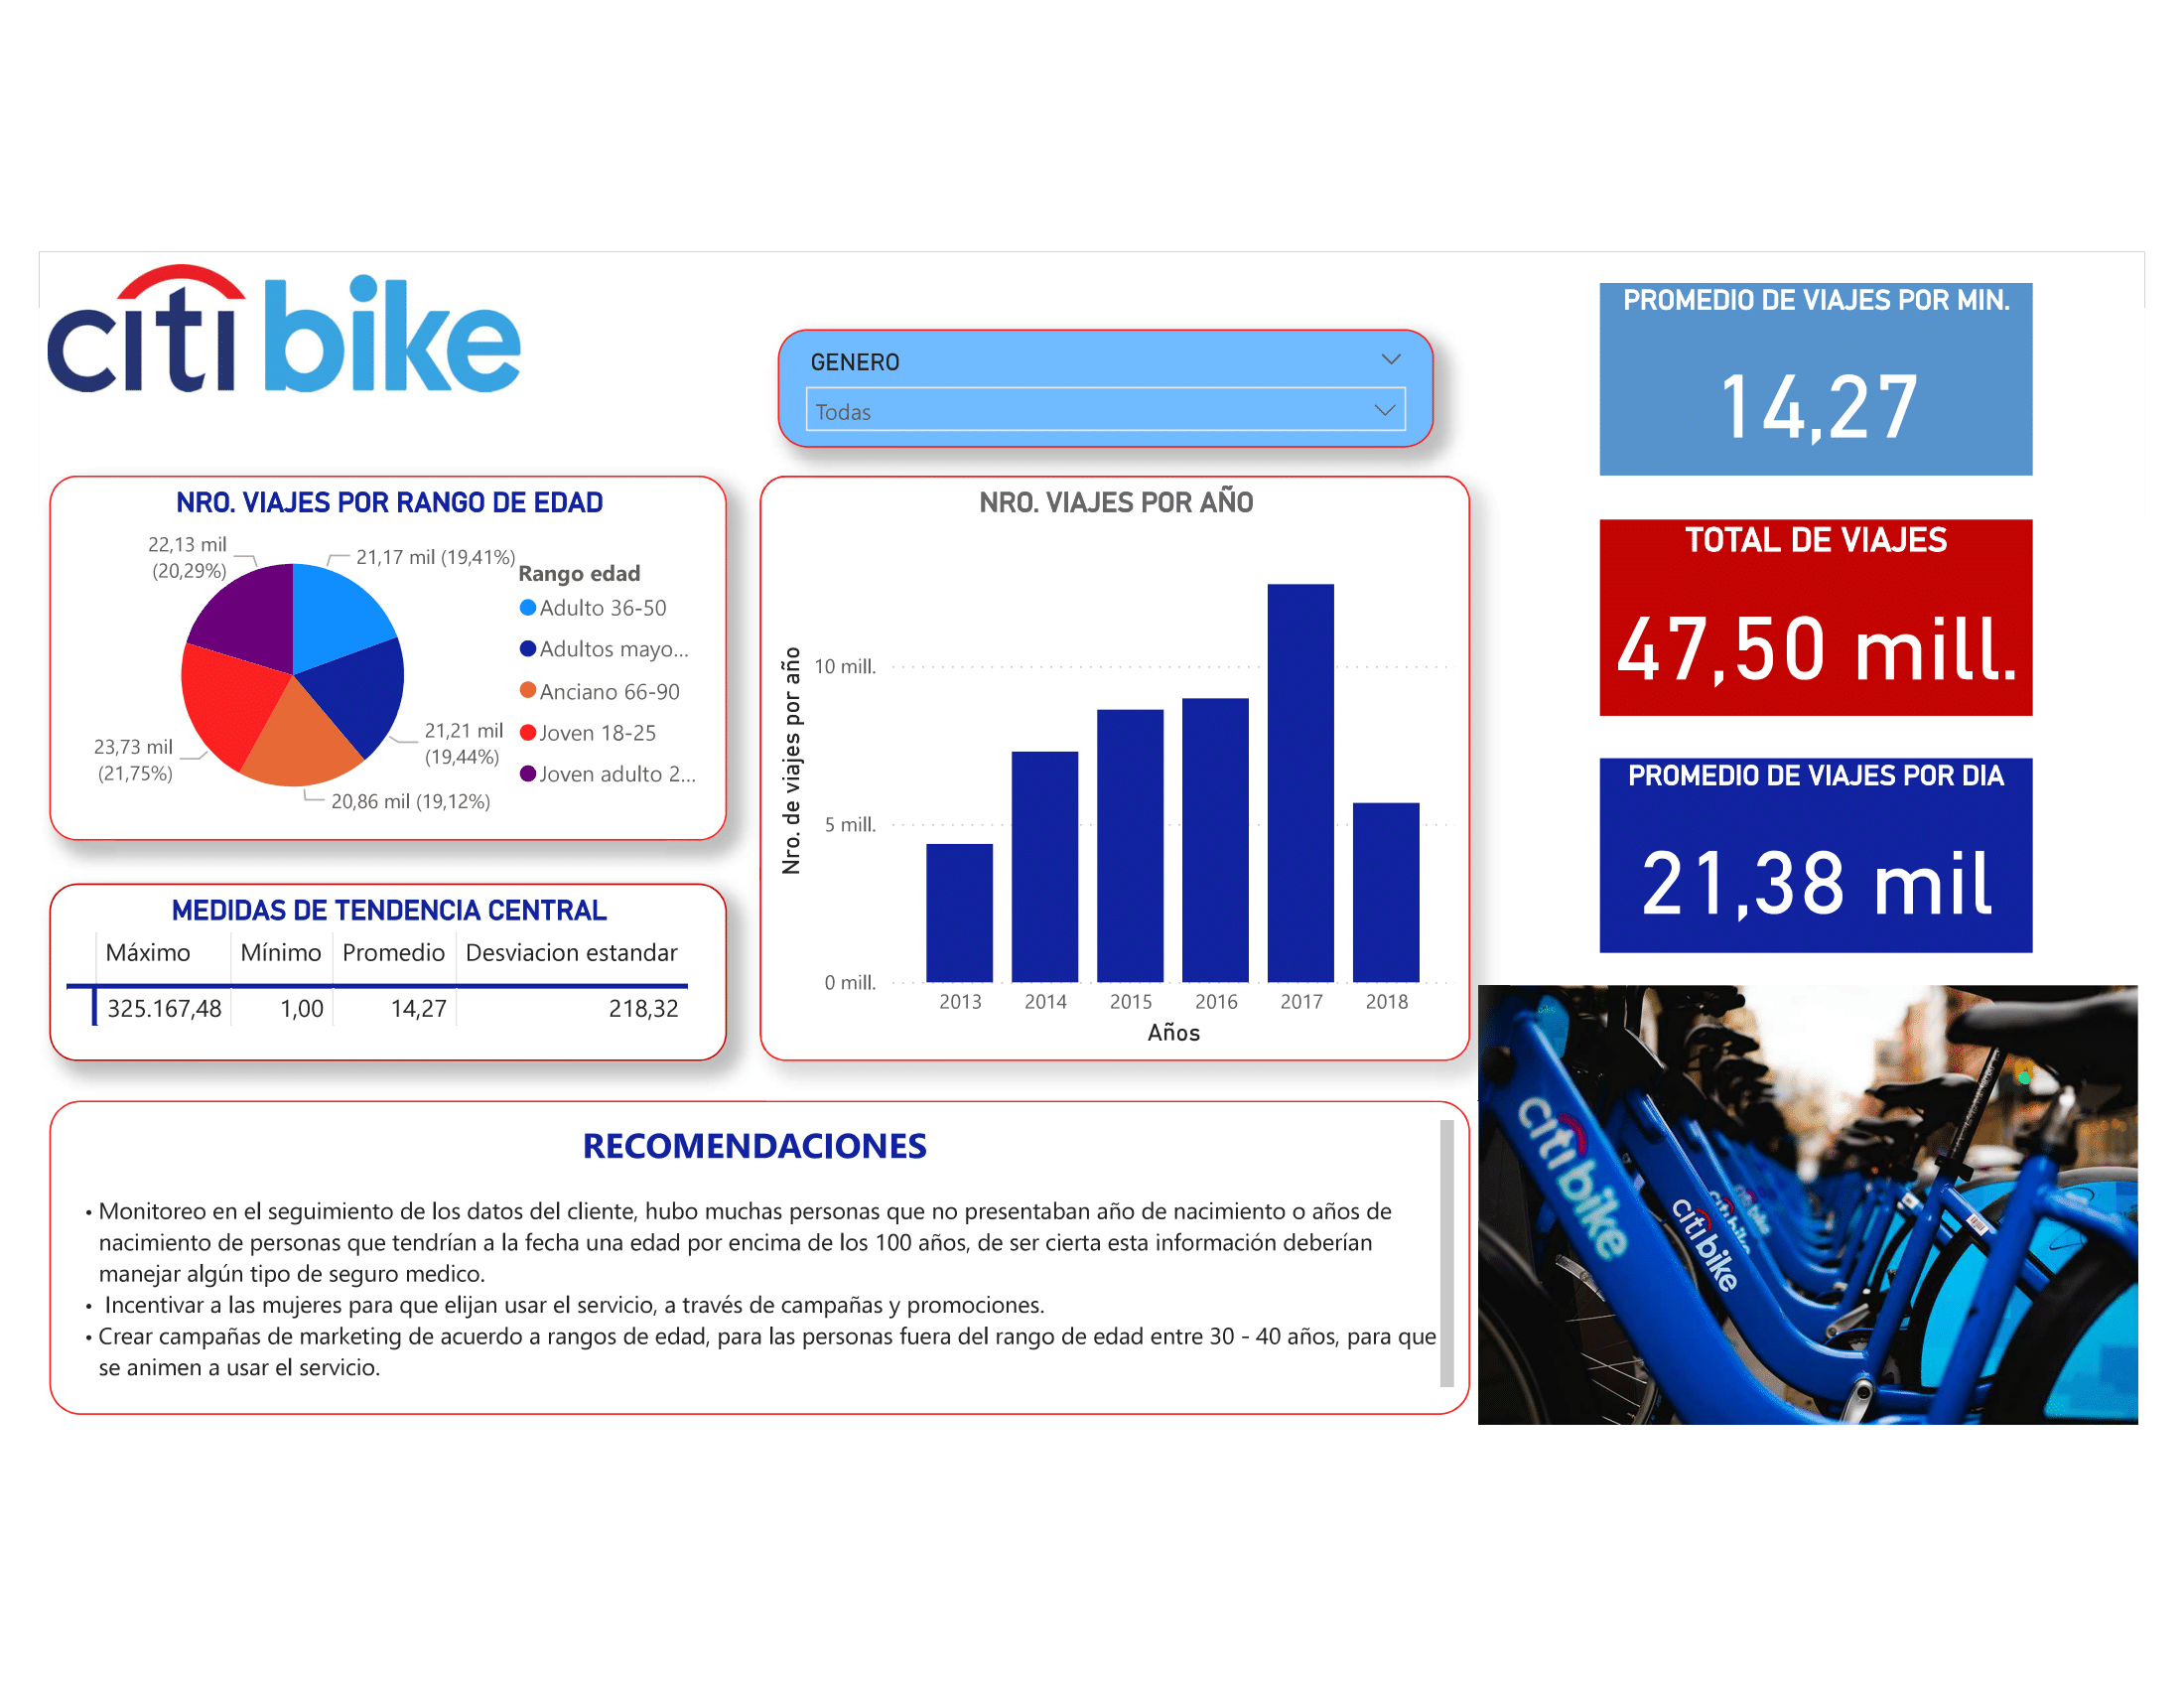

The dashboard page shown, as its layout file describes it:
{"tool":"powerbi","page":{"name":"Dashboard","canvas":[1280,720],"ordinal":0},"visuals":[{"type":"image","box":[869.5,439,411.3,281],"z":0},{"type":"image","box":[0,0,301.5,92.9],"z":1000},{"type":"textbox","box":[6,516.2,863.5,190.6],"z":2000},{"type":"card","title":"PROMEDIO DE VIAJES POR MIN.","fields":{"Values":["Avg(tabla_general.tripduration_minutes)"]},"box":[949.1,19.3,262.9,117],"z":3000},{"type":"card","title":"TOTAL DE VIAJES","fields":{"Values":["CountNonNull(tabla_general.bikeid)"]},"box":[949.1,162.8,262.9,119.4],"z":4000},{"type":"clusteredColumnChart","title":"NRO. VIAJES POR AÑO","fields":{"Category":["tabla_general.year"],"Y":["CountNonNull(tabla_general.bikeid)"]},"box":[437.8,136.3,431.8,355.8],"z":5000},{"type":"card","title":"PROMEDIO DE VIAJES POR DIA","fields":{"Values":["Avg(tabla_general.bikeid)"]},"box":[949.1,307.5,262.9,118.2],"z":6000},{"type":"pivotTable","title":"MEDIDAS DE TENDENCIA CENTRAL","fields":{"Values":["Max(tabla_general.tripduration_minutes)","Min(tabla_general.tripduration_minutes)","Avg(tabla_general.tripduration_minutes)","Sum(tabla_general.tripduration_minutes)"]},"box":[6,383.5,412.5,108.5],"z":7000},{"type":"pieChart","title":"NRO. VIAJES POR RANGO DE EDAD","fields":{"Y":["Avg(tabla_general.bikeid)"],"Series":["tabla_general.age_category"]},"box":[6,136.3,412.5,221.9],"z":8000},{"type":"slicer","fields":{"Values":["tabla_general.gender"]},"box":[448.6,47,399.2,72.4],"z":9000}]}

Visuals, with their boxes on the page's 1280x720 design canvas (x1, y1, x2, y2). These are canvas units, not pixel positions in the 2184x1688 screenshot, which may show the page scaled, cropped or inside an application window:
image: BBox(870, 439, 1281, 720)
image: BBox(0, 0, 302, 93)
textbox: BBox(6, 516, 870, 707)
"PROMEDIO DE VIAJES POR MIN." card: BBox(949, 19, 1212, 136)
"TOTAL DE VIAJES" card: BBox(949, 163, 1212, 282)
"NRO. VIAJES POR AÑO" clusteredColumnChart: BBox(438, 136, 870, 492)
"PROMEDIO DE VIAJES POR DIA" card: BBox(949, 308, 1212, 426)
"MEDIDAS DE TENDENCIA CENTRAL" pivotTable: BBox(6, 384, 418, 492)
"NRO. VIAJES POR RANGO DE EDAD" pieChart: BBox(6, 136, 418, 358)
slicer - tabla_general.gender: BBox(449, 47, 848, 119)
